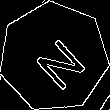N_NW: (23, 25, 86, 89)
